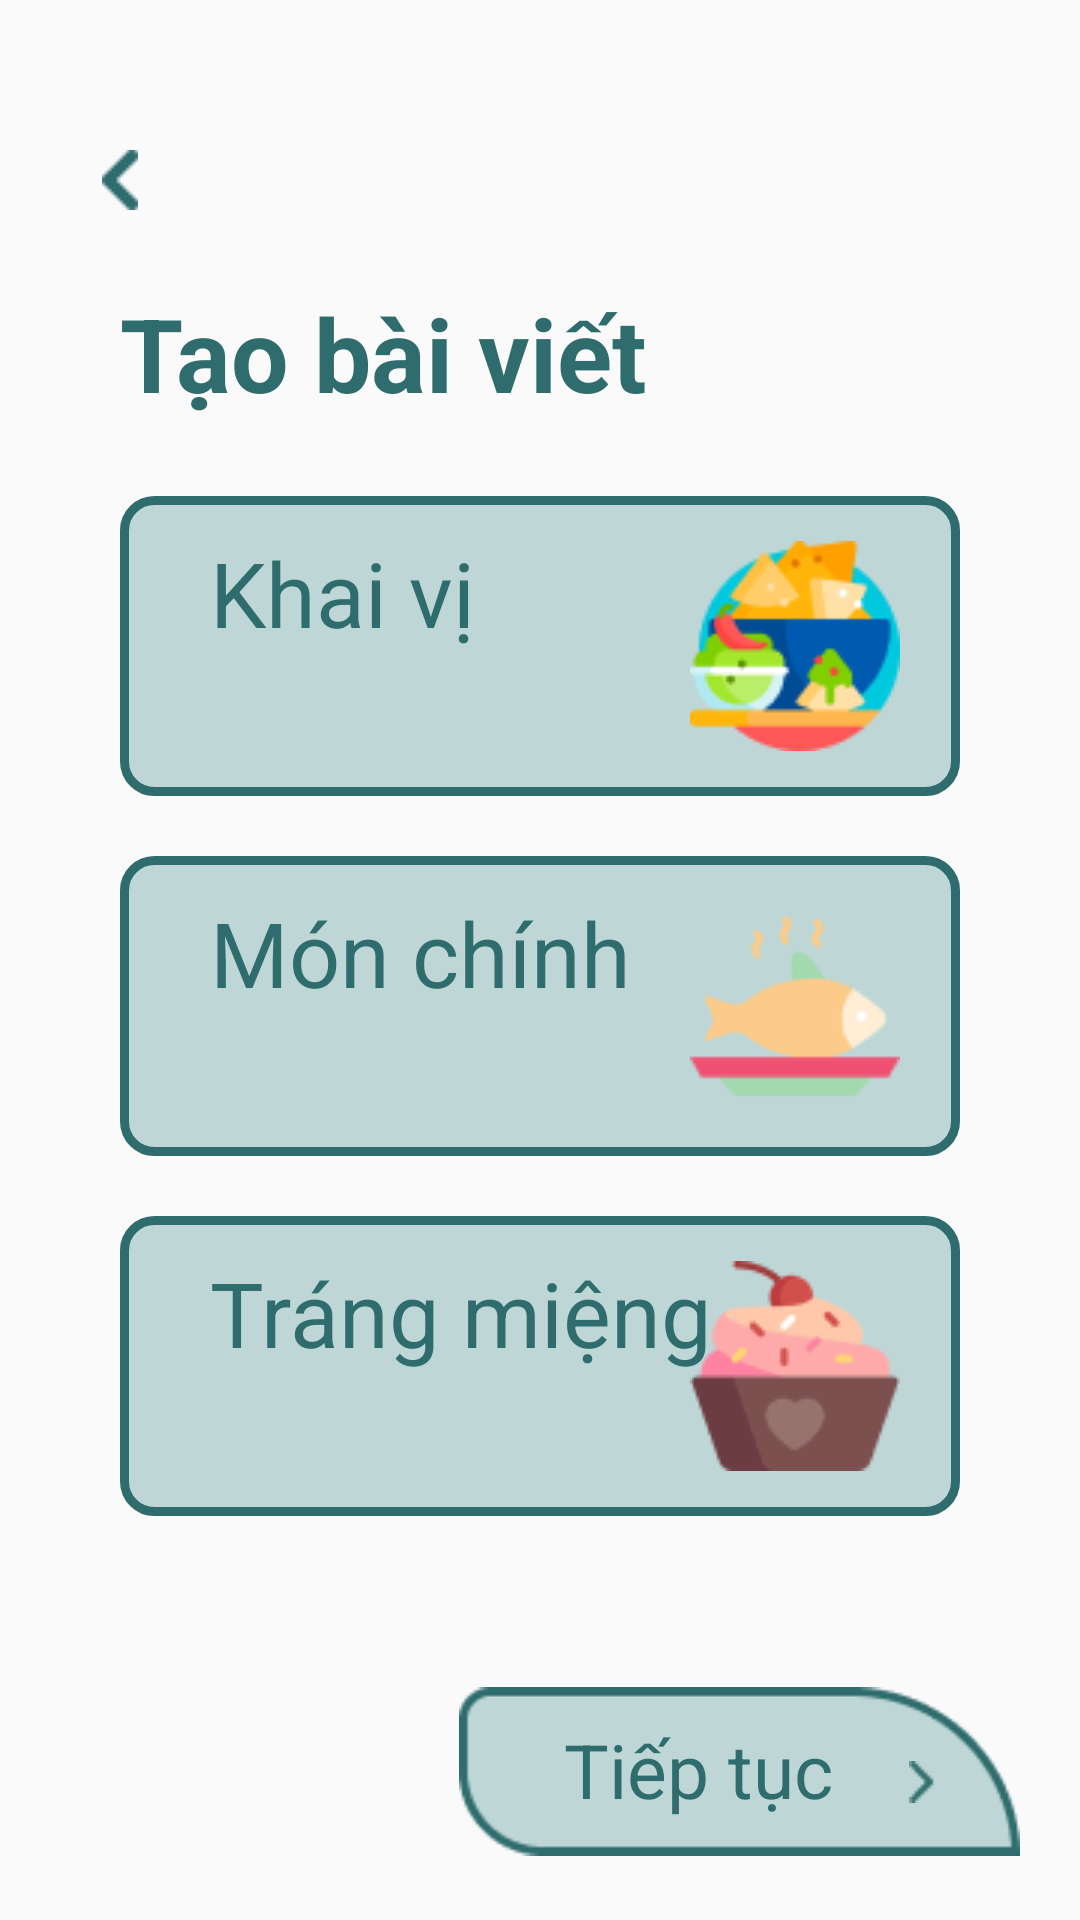

Where to tap for icons on this 1080w x 1920h app screen, as point (x, y):
appetizer: point (795, 646)
desserts: point (795, 1366)
dishes: point (795, 1006)
